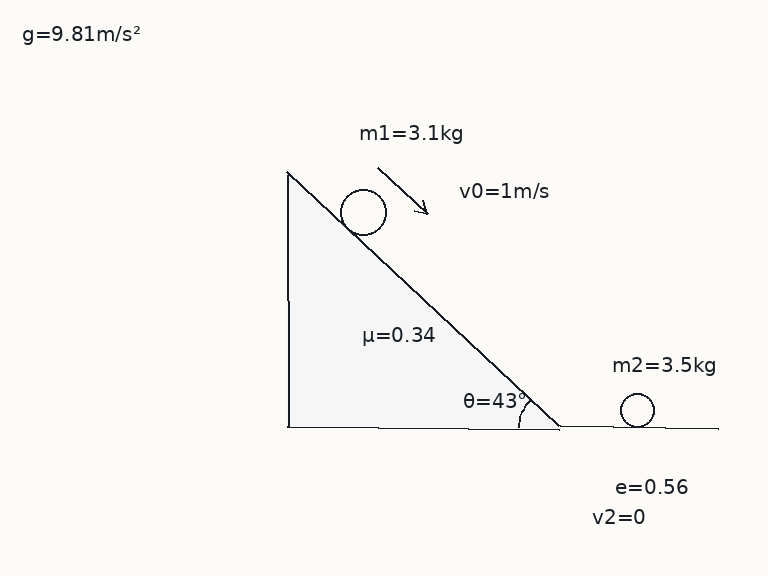ball: (338, 187, 388, 237), (618, 391, 656, 429)
ramp: (286, 172, 561, 429)
